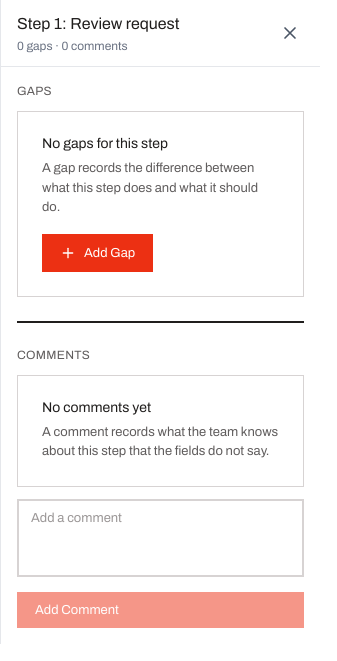
CommentsSection in RightPanel › submits on Enter and leaves Shift+Enter to insert a newline
Type "Typed then shift-entered" into the text box labelled "Add a comment" at (160, 538), box 17,498 -> 304,577
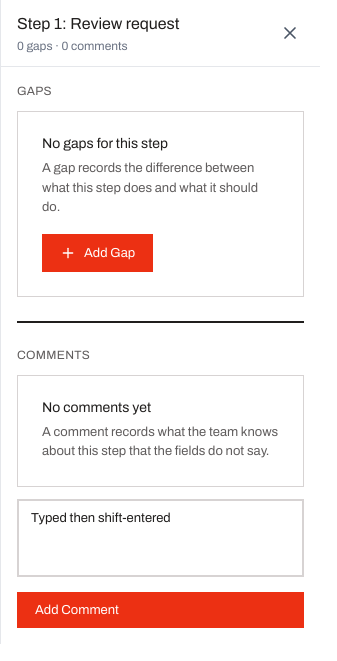
Press Enter in the text box named "Add a comment", box 17,498 -> 304,577
Press Enter in the text box named "Add a comment", box 17,498 -> 304,577
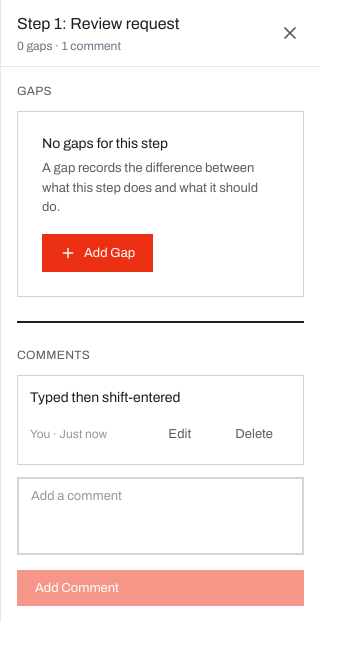
Now the text "Typed then shift-entered" is shown, box 30,390 -> 180,404
